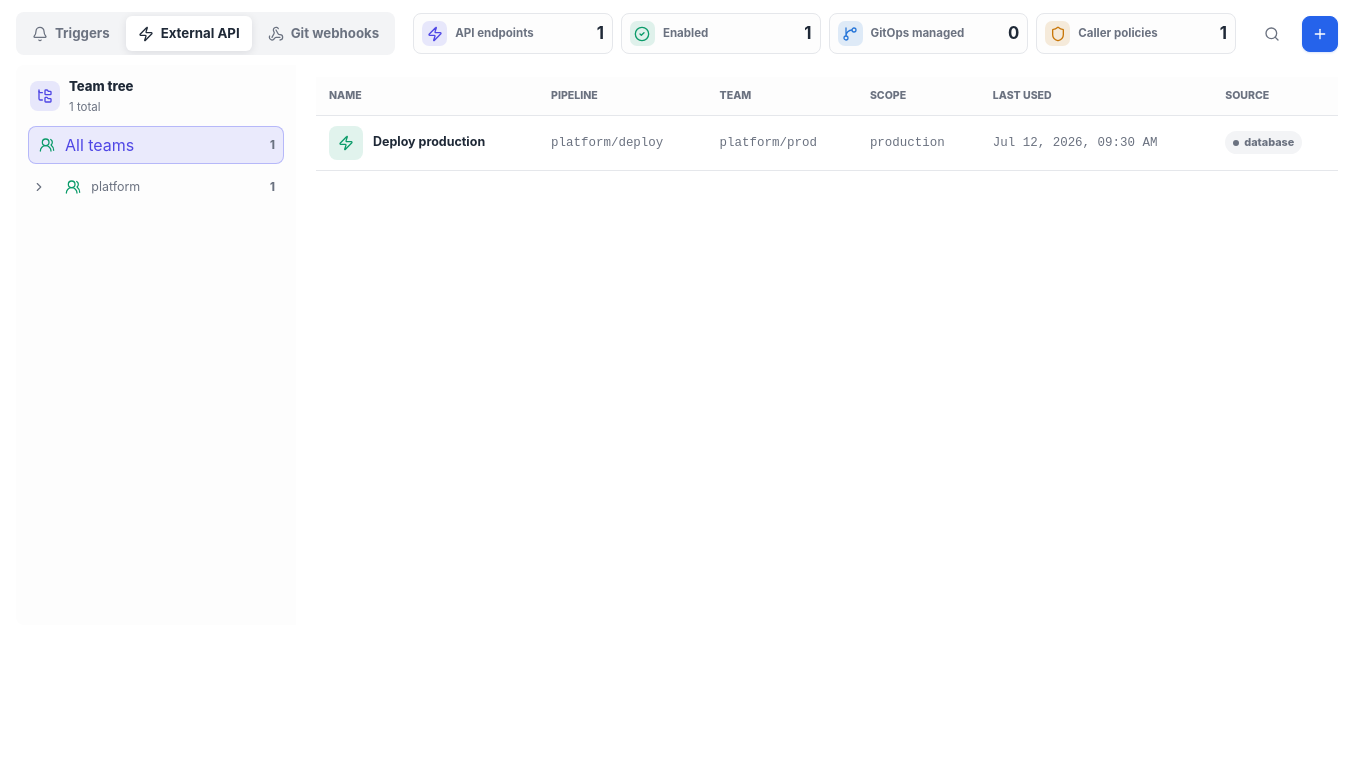
Scenario: ExternalTriggersPage create action › renders workspace metrics and opens details after selecting a row
Check: the text "Deploy production" is shown, box [373,133,485,152]
Check: the text "API endpoints" is shown, box [455,26,534,40]
Step 1. Click the button "Deploy production" → click(427, 142), box [329,126,525,160]
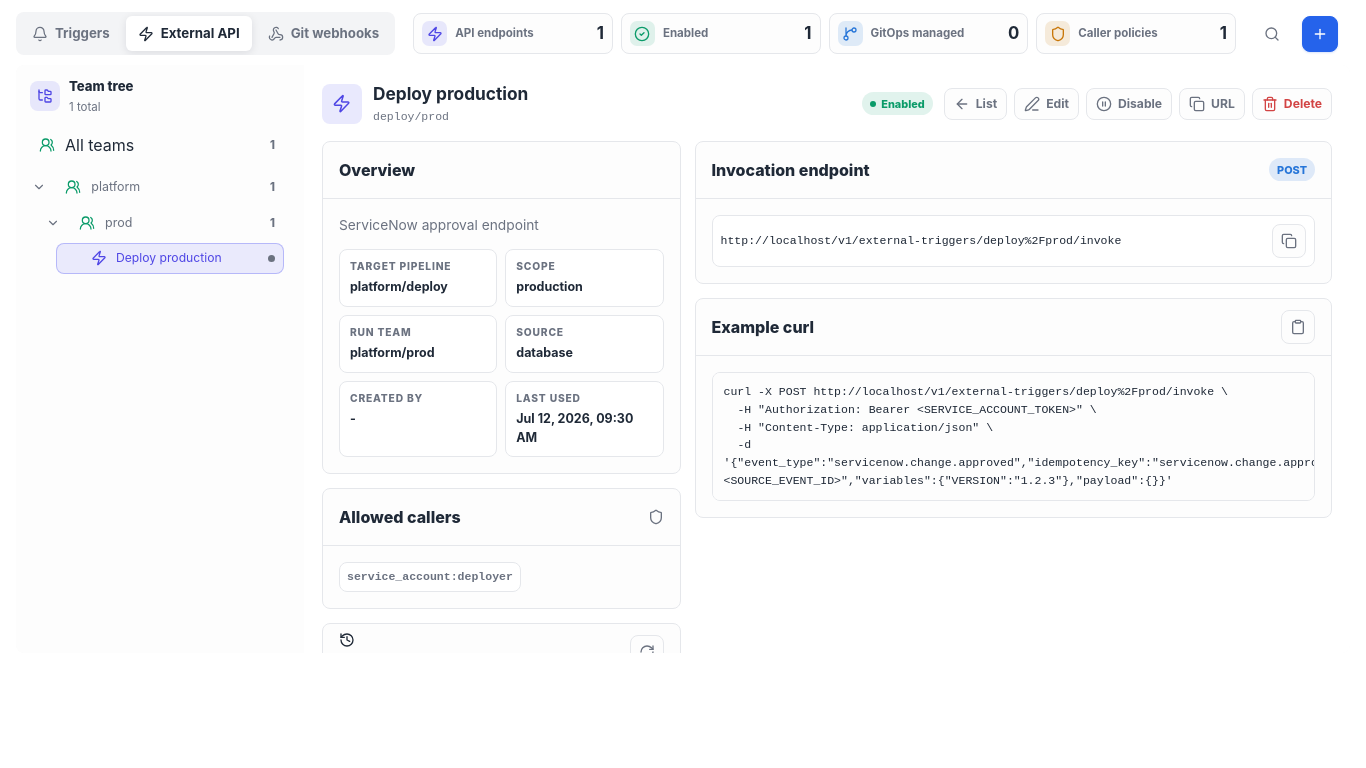
Check: the heading "Allowed callers" is shown, box [339,505,461,529]
Check: the button "List" is shown, box [944,88,1007,120]
Check: the text "service_account:deployer" is shown, box [339,562,521,592]
